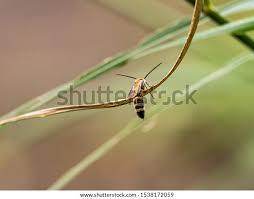Lasioglossum: (120, 59, 154, 127)
